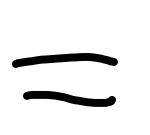eqv: (12, 53, 117, 107)
